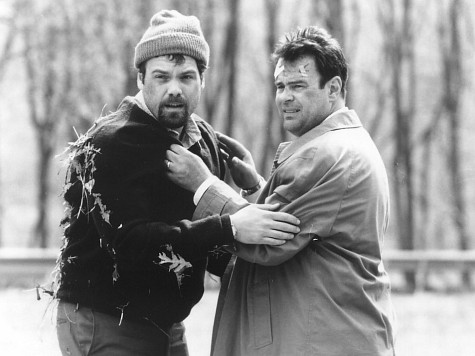42: (134, 43, 206, 133), (265, 47, 330, 140)
Coat: (190, 109, 409, 356)
Hat: (132, 9, 211, 70)
Male: (134, 43, 206, 133), (265, 47, 330, 140)
Pants: (49, 296, 195, 356)
Ring: (162, 157, 174, 170)
Upper: (43, 95, 234, 324)
